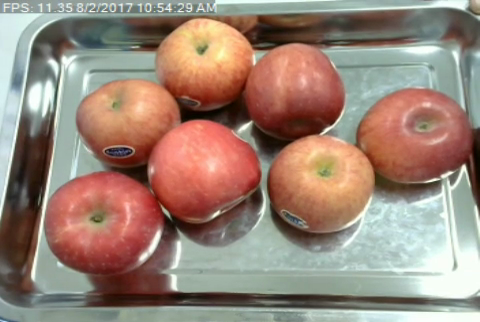Apple: (44, 168, 164, 275), (147, 117, 262, 223), (357, 88, 472, 186), (267, 132, 376, 235), (72, 76, 187, 167), (243, 40, 345, 138), (153, 15, 251, 112)
